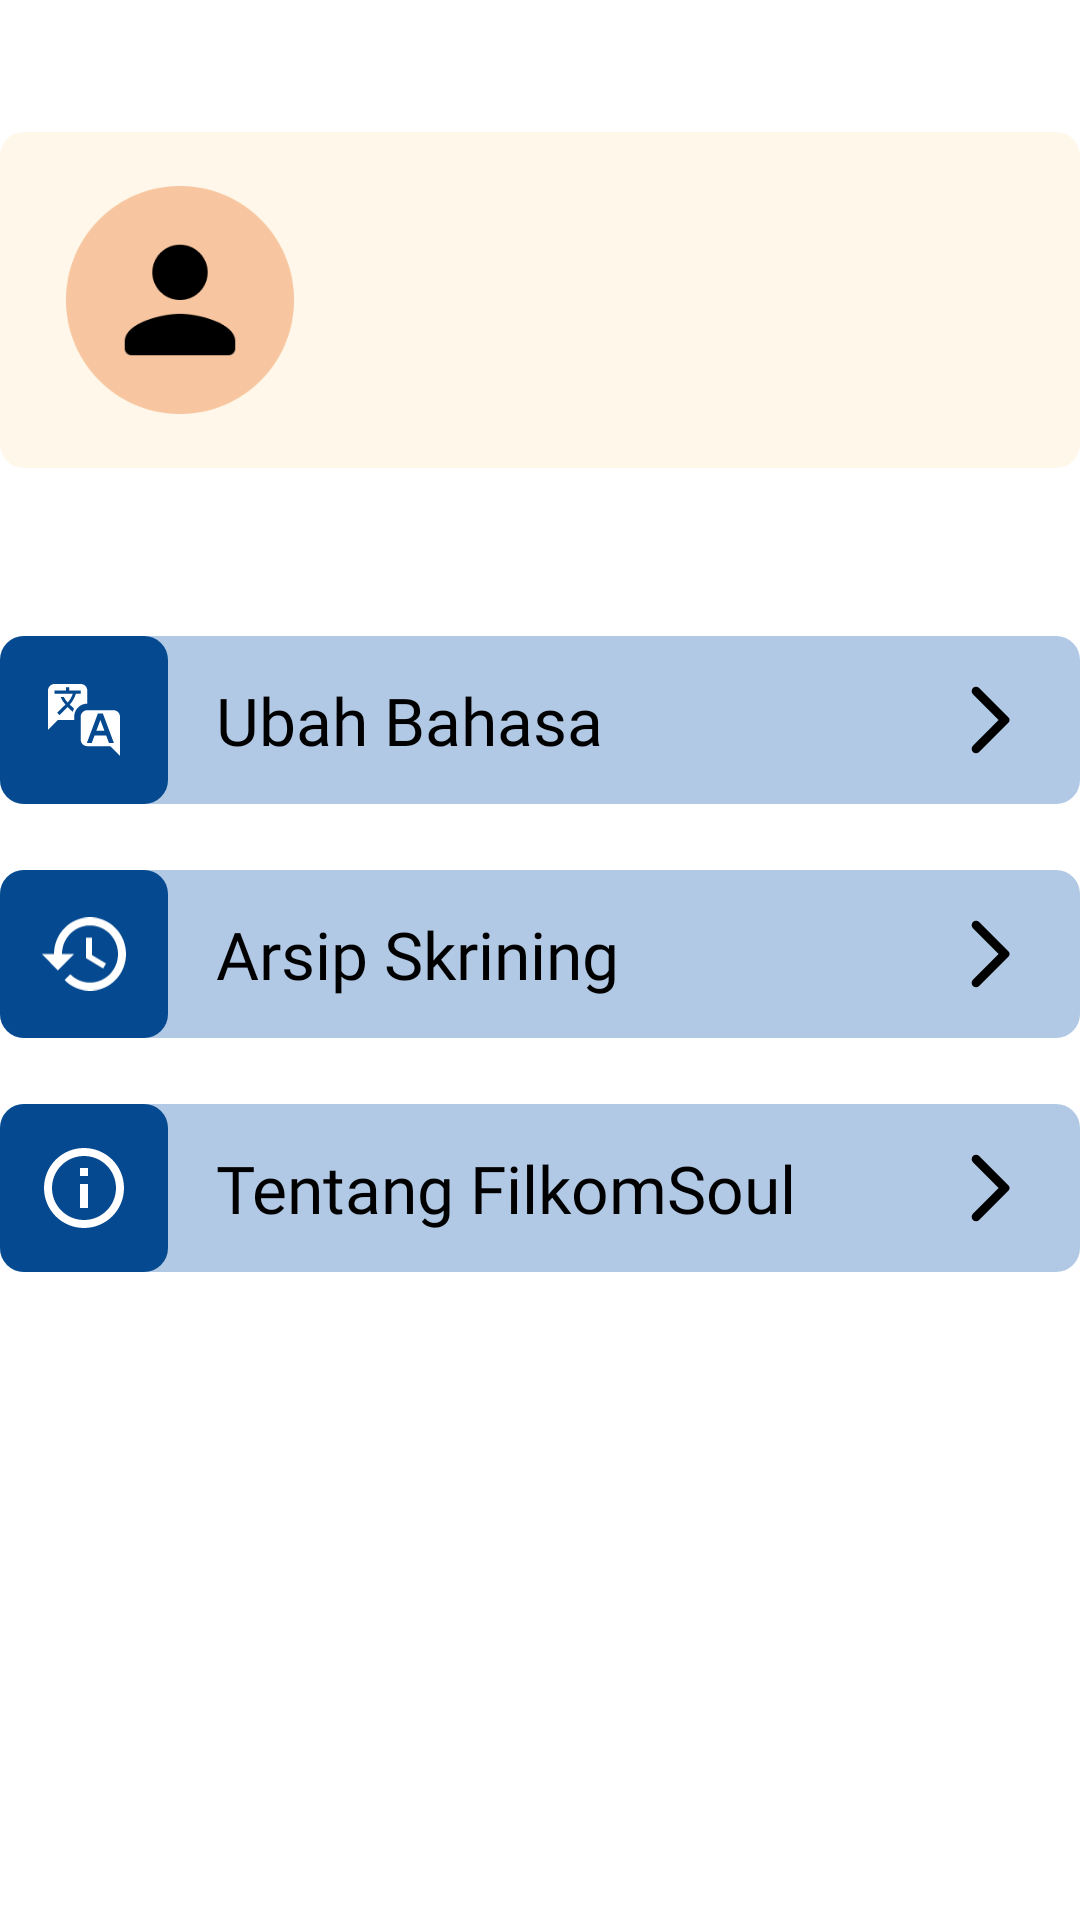

Icons on this 1080 x 1920 Android screen, each with its box as (x1, y1, x2, y2):
history: (42, 917, 126, 991)
information: (44, 1148, 124, 1228)
language: (48, 684, 120, 756)
profilenav: (66, 186, 294, 414)
